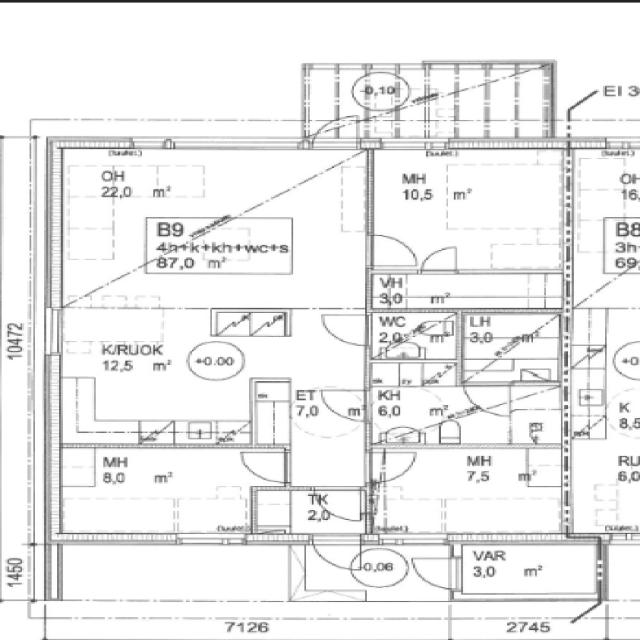door: (304, 385, 374, 429), (364, 229, 422, 274), (315, 308, 374, 349), (460, 378, 516, 418), (311, 485, 367, 525), (407, 553, 464, 592), (238, 447, 292, 486), (309, 531, 360, 570), (369, 447, 422, 484), (309, 118, 362, 152), (416, 242, 466, 278)
window: (169, 135, 302, 154), (40, 307, 68, 360), (376, 137, 444, 154), (179, 532, 245, 548), (128, 136, 172, 150)
zone: (56, 146, 374, 312), (52, 309, 294, 447), (367, 149, 569, 272), (52, 446, 284, 539), (371, 447, 571, 538), (366, 359, 566, 444), (453, 542, 603, 601), (370, 272, 566, 314), (369, 271, 571, 311), (459, 310, 565, 383), (368, 310, 461, 361), (173, 499, 254, 539)
